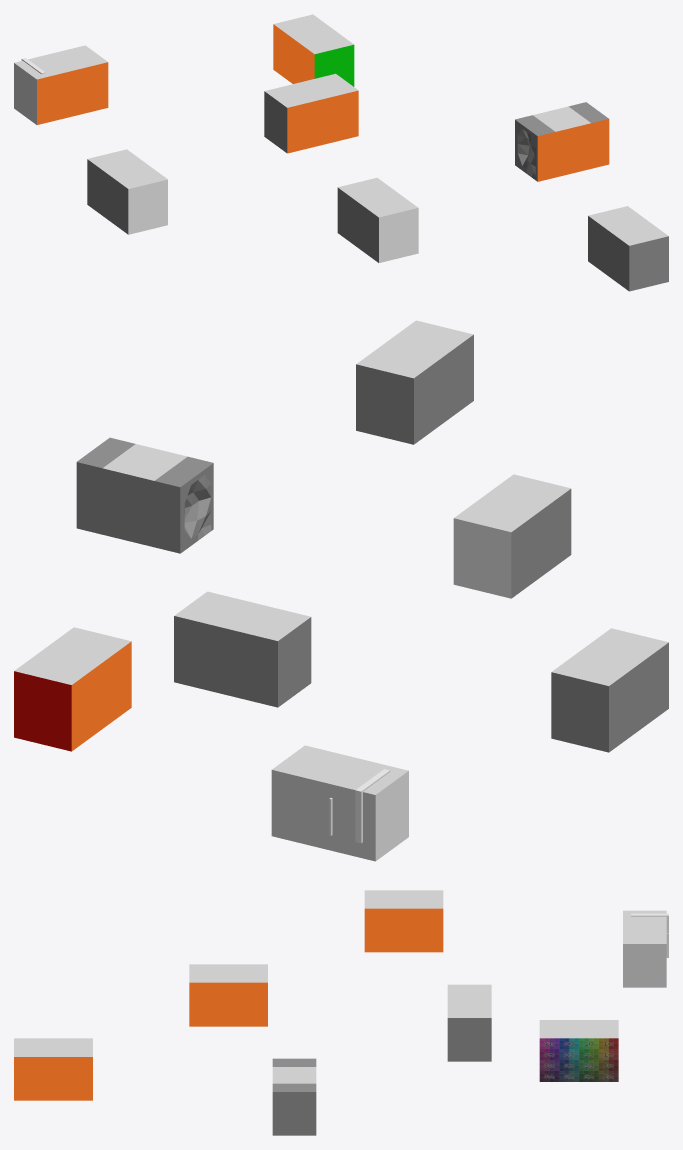
File: NewBooths.fbx
The picture shows the model from 3 angles, top to bottom: view 1: azimuth 30°, elevation 25°; view 2: azimuth 150°, elevation 25°; view 3: azimuth 270°, elevation 25°; orthographic projection. The views are drawn at different scales.
Visible parts, largest first — view 1: barriers_newbooths, booth_empty, booth_mirrors, booth_pathtracing, booth_normalvector, booth_pathtracing_mirror, booth_mirrors_reflec, booth_empty_light.002, booth_empty_light, booth_empty_light.001, booth_slowcam_lamp.001, booth_empty_light.003 (+5 smaller); view 2: booth_normalvector, booth_diffuse, booth_empty, booth_pathtracing, booth_refraction, booth_mirrors, barriers_newbooths, booth_mirrors_reflec, booth_slowcam_leftwall.001, booth_empty_light.002, booth_slowcam_lamp.001, booth_empty_light (+6 smaller); view 3: barriers_newbooths, booth_frustcam_backwall, booth_normalvector, booth_diffuse, booth_refraction, booth_empty_light.002, booth_empty_light.003, booth_slowcam_lamp.001, booth_empty_light, booth_empty_light.001, booth_refraction_light, booth_normalvector_light.
Part boxes in pixels (x1,y1,x2,y2): barriers_newbooths: (37,24,609,181); booth_empty: (588,216,668,291); booth_mirrors: (337,187,378,262); booth_pathtracing: (87,159,128,234); booth_normalvector: (515,102,608,181); booth_pathtracing_mirror: (128,179,167,234); booth_mirrors_reflec: (379,208,418,262); booth_empty_light.002: (264,73,358,107); booth_empty_light: (588,206,668,245); booth_empty_light.001: (338,177,418,217); booth_slowcam_lamp.001: (273,14,353,54); booth_empty_light.003: (87,149,167,188); booth_normalvector: (76,437,213,553); booth_diffuse: (174,616,311,707); booth_empty: (356,334,473,444); booth_pathtracing: (551,642,668,752); booth_refraction: (271,770,375,861); booth_mirrors: (511,489,571,598); barriers_newbooths: (71,641,131,751); booth_mirrors_reflec: (453,518,511,598); booth_slowcam_leftwall.001: (14,671,71,751); booth_empty_light.002: (174,591,310,640); booth_slowcam_lamp.001: (14,627,130,684); booth_empty_light: (356,320,473,378); barriers_newbooths: (14,908,443,1100); booth_frustcam_backwall: (539,1038,618,1081); booth_normalvector: (272,1058,316,1135); booth_diffuse: (447,1018,491,1061); booth_refraction: (623,944,666,987); booth_empty_light.002: (447,984,491,1017); booth_empty_light.003: (364,890,443,908); booth_slowcam_lamp.001: (539,1020,618,1038); booth_empty_light: (14,1038,92,1056); booth_empty_light.001: (189,964,267,982); booth_refraction_light: (623,910,666,943); booth_normalvector_light: (272,1067,316,1083).
Bounding box in the file's own units: 1090 × 113 × 1495.
